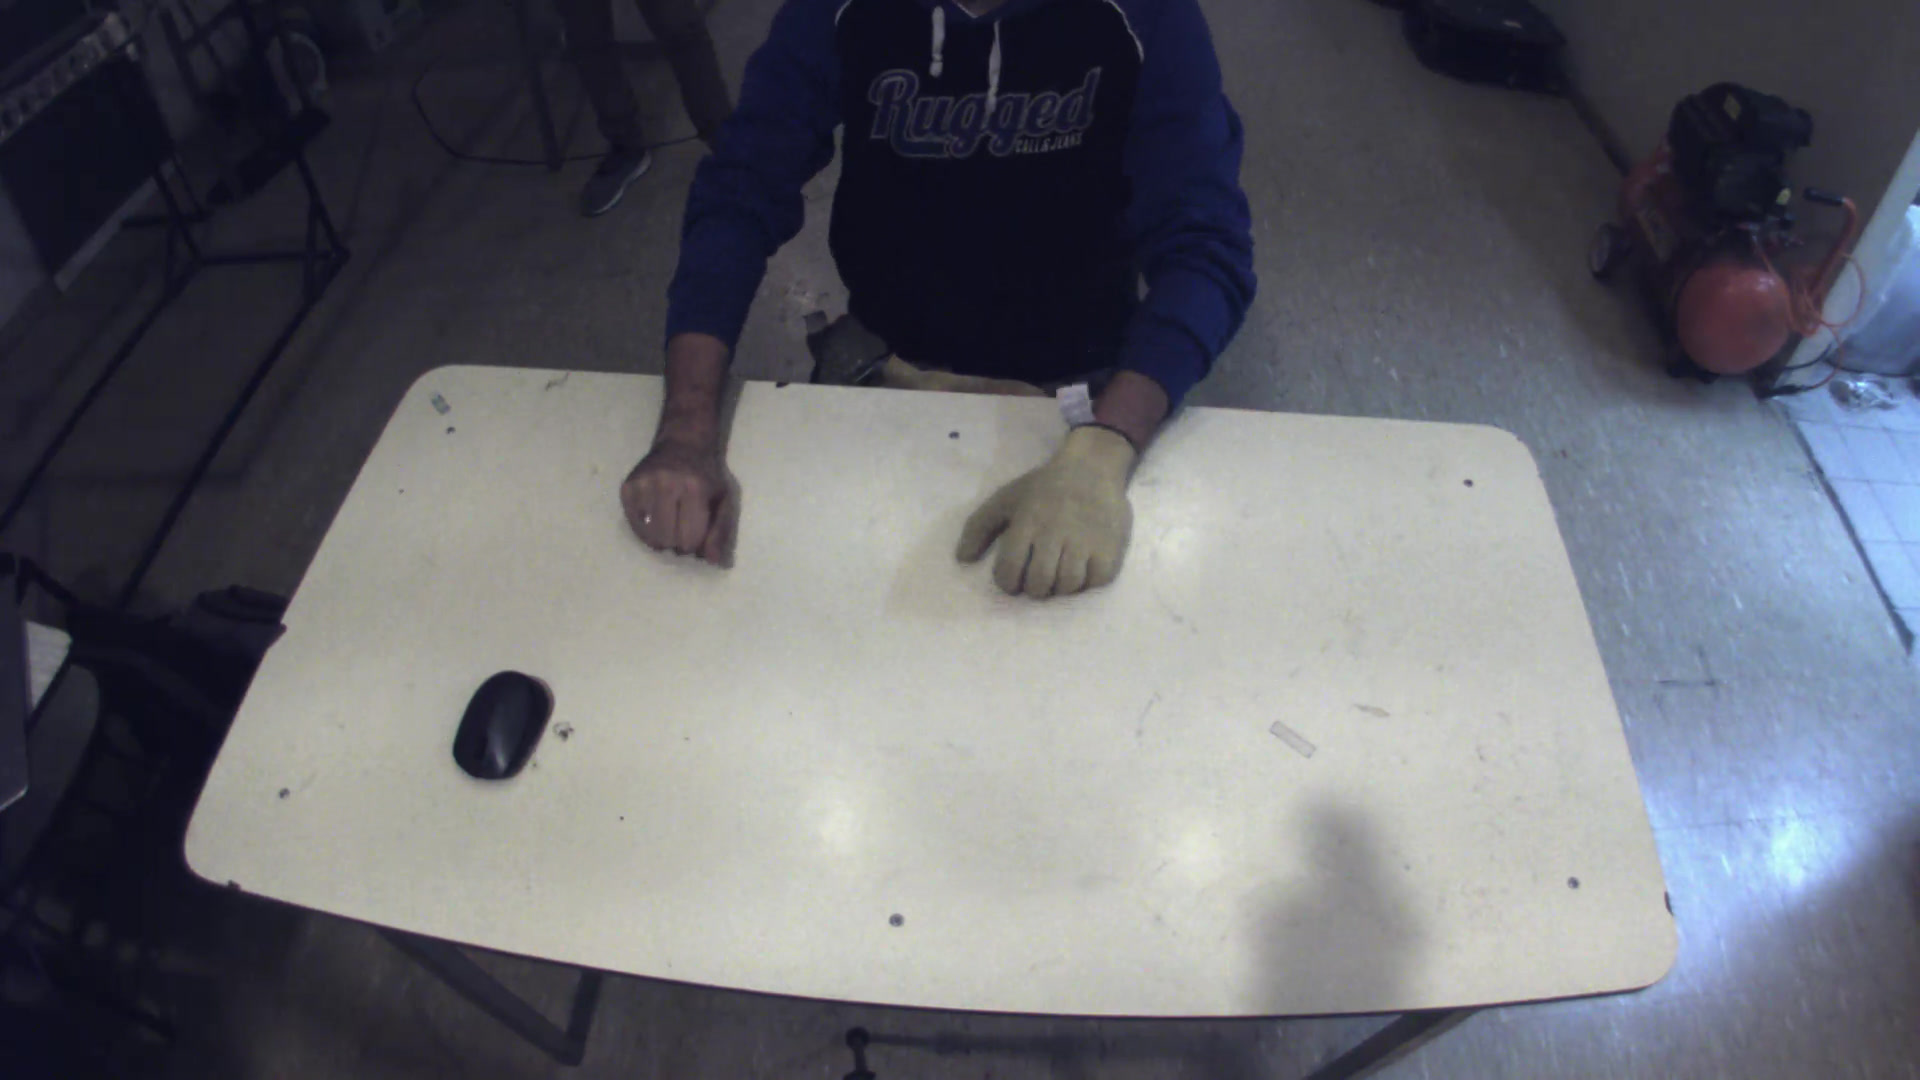hand: (949, 406, 1151, 604), (603, 411, 749, 563)
